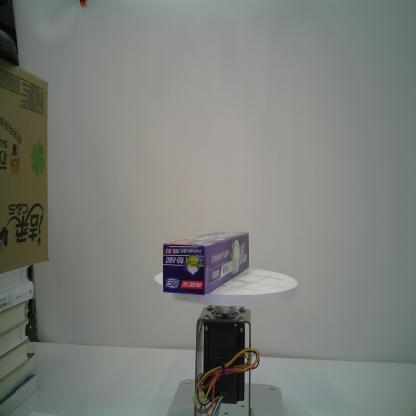Personal Hygiene: (162, 230, 250, 297)
